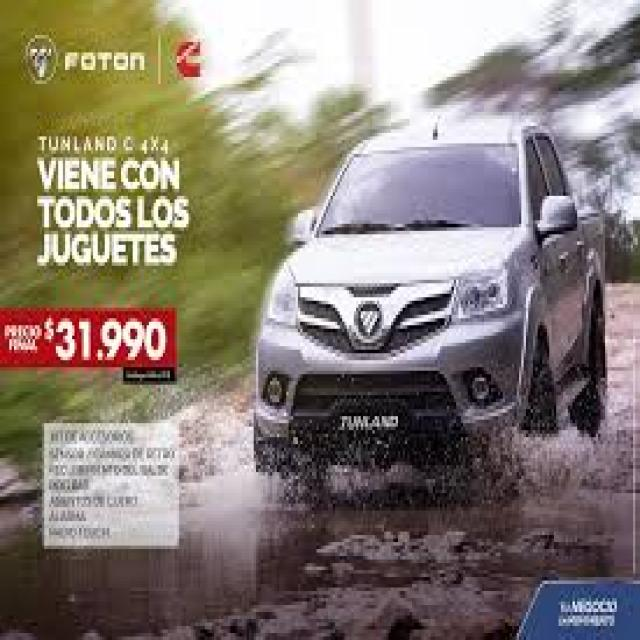CMT: (256, 124, 610, 488)
